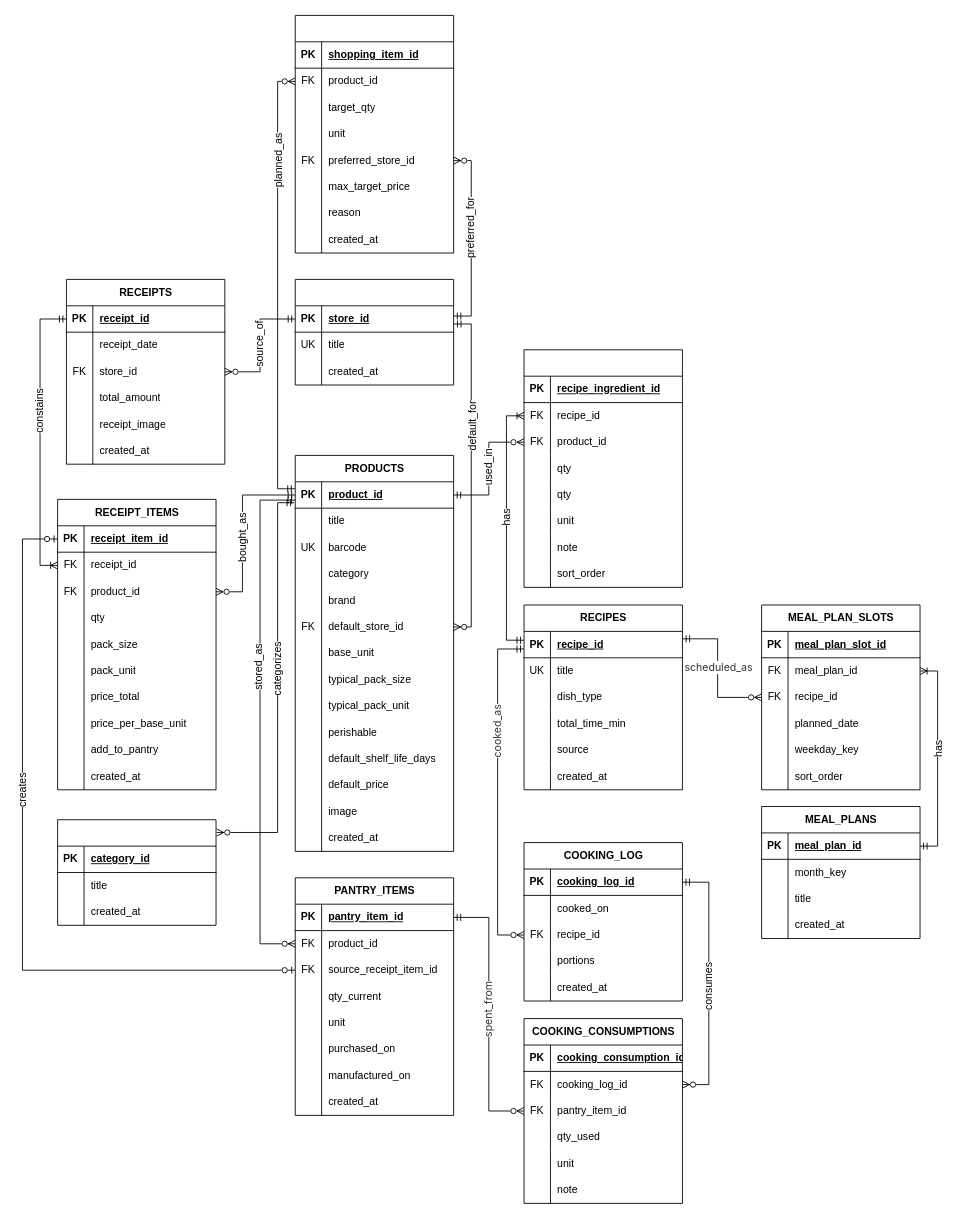
Some shapes in this 961 by 1219 pixel diagram are drawn without their labels. Here are the shapes that lost their labels. From the top down, the box of each, then its label:
(294, 15, 454, 253): SHOPPING_ITEMS
(294, 279, 454, 385): STORES
(523, 349, 682, 587): RECIPE_INGREDIENTS
(57, 819, 216, 925): CATEGORIES
